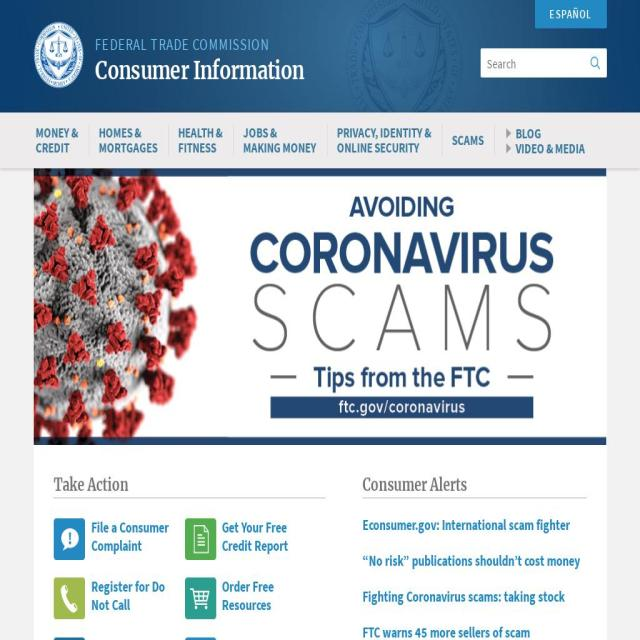button: (33, 168, 606, 446), (328, 113, 440, 165), (184, 518, 310, 560), (184, 578, 310, 620), (54, 518, 179, 560), (54, 578, 179, 620), (234, 113, 326, 165), (33, 21, 96, 94), (89, 113, 167, 165), (169, 113, 232, 165), (27, 113, 88, 165), (443, 120, 493, 158), (53, 637, 179, 640), (184, 637, 309, 640)
field: (481, 48, 607, 78), (586, 52, 606, 76)
heading: (95, 33, 481, 55), (54, 472, 326, 498), (95, 54, 305, 87), (362, 472, 586, 498)
image: (33, 168, 606, 446), (33, 21, 84, 88)
link: (362, 550, 580, 570), (362, 515, 570, 535), (362, 586, 566, 606), (362, 621, 530, 640), (506, 138, 585, 158), (506, 125, 541, 156), (549, 6, 592, 22)
text: (337, 123, 431, 142), (337, 138, 419, 157), (243, 138, 316, 157), (99, 138, 158, 157), (178, 123, 223, 142), (36, 123, 78, 142), (99, 123, 141, 142), (178, 138, 216, 157), (36, 138, 70, 157), (243, 123, 277, 142), (452, 131, 484, 149)
